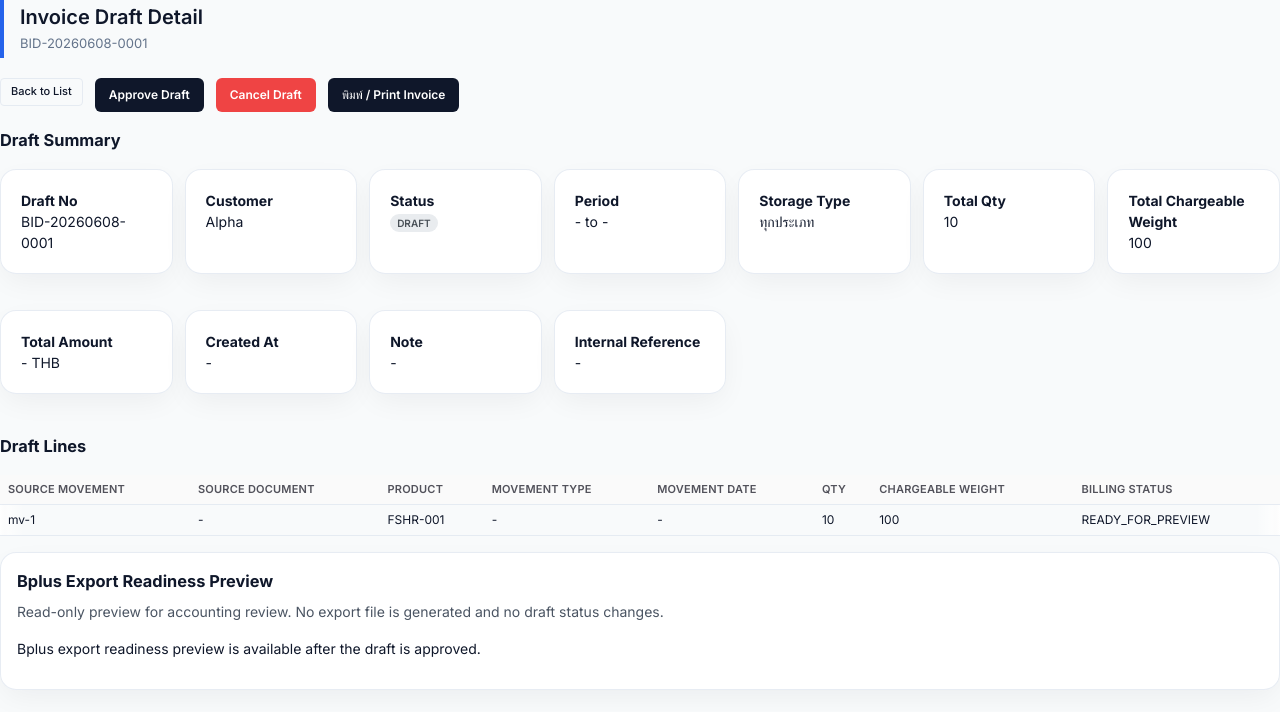
Test: Gate 3B-2 billing invoice draft UI › shows approval error and keeps draft actions available
What coordinates should you click on to do the following:
click the button with test id "invoice-draft-approve-button"
I would click on:
 (149, 94)
Its box is [95, 78, 204, 112].
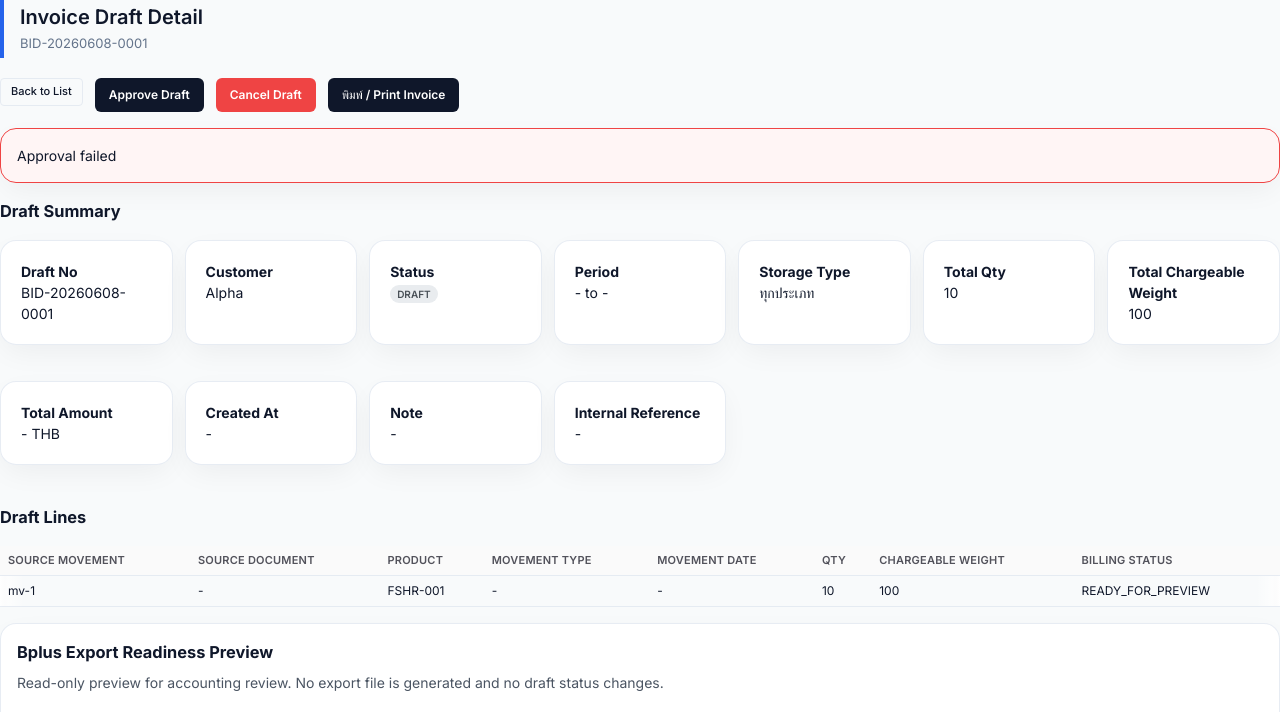
Expected: the button with test id "invoice-draft-cancel-button" is shown, [216, 78, 316, 112]
Expected: the message with test id "invoice-draft-approve-error-alert" reads "Approval failed", [17, 146, 116, 164]
